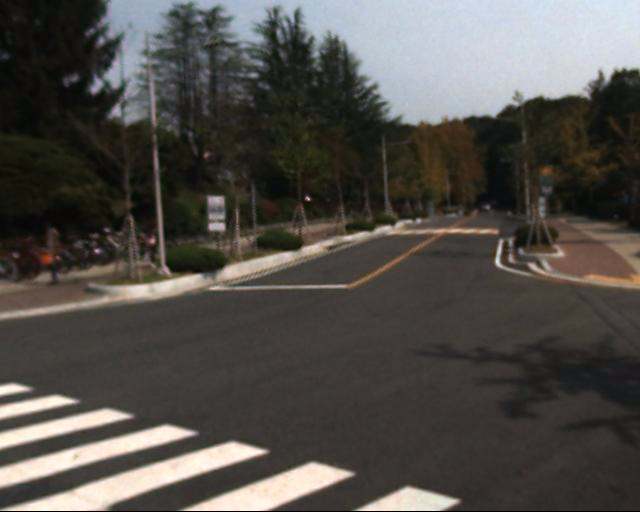person: (28, 215, 81, 288), (140, 207, 180, 283)
